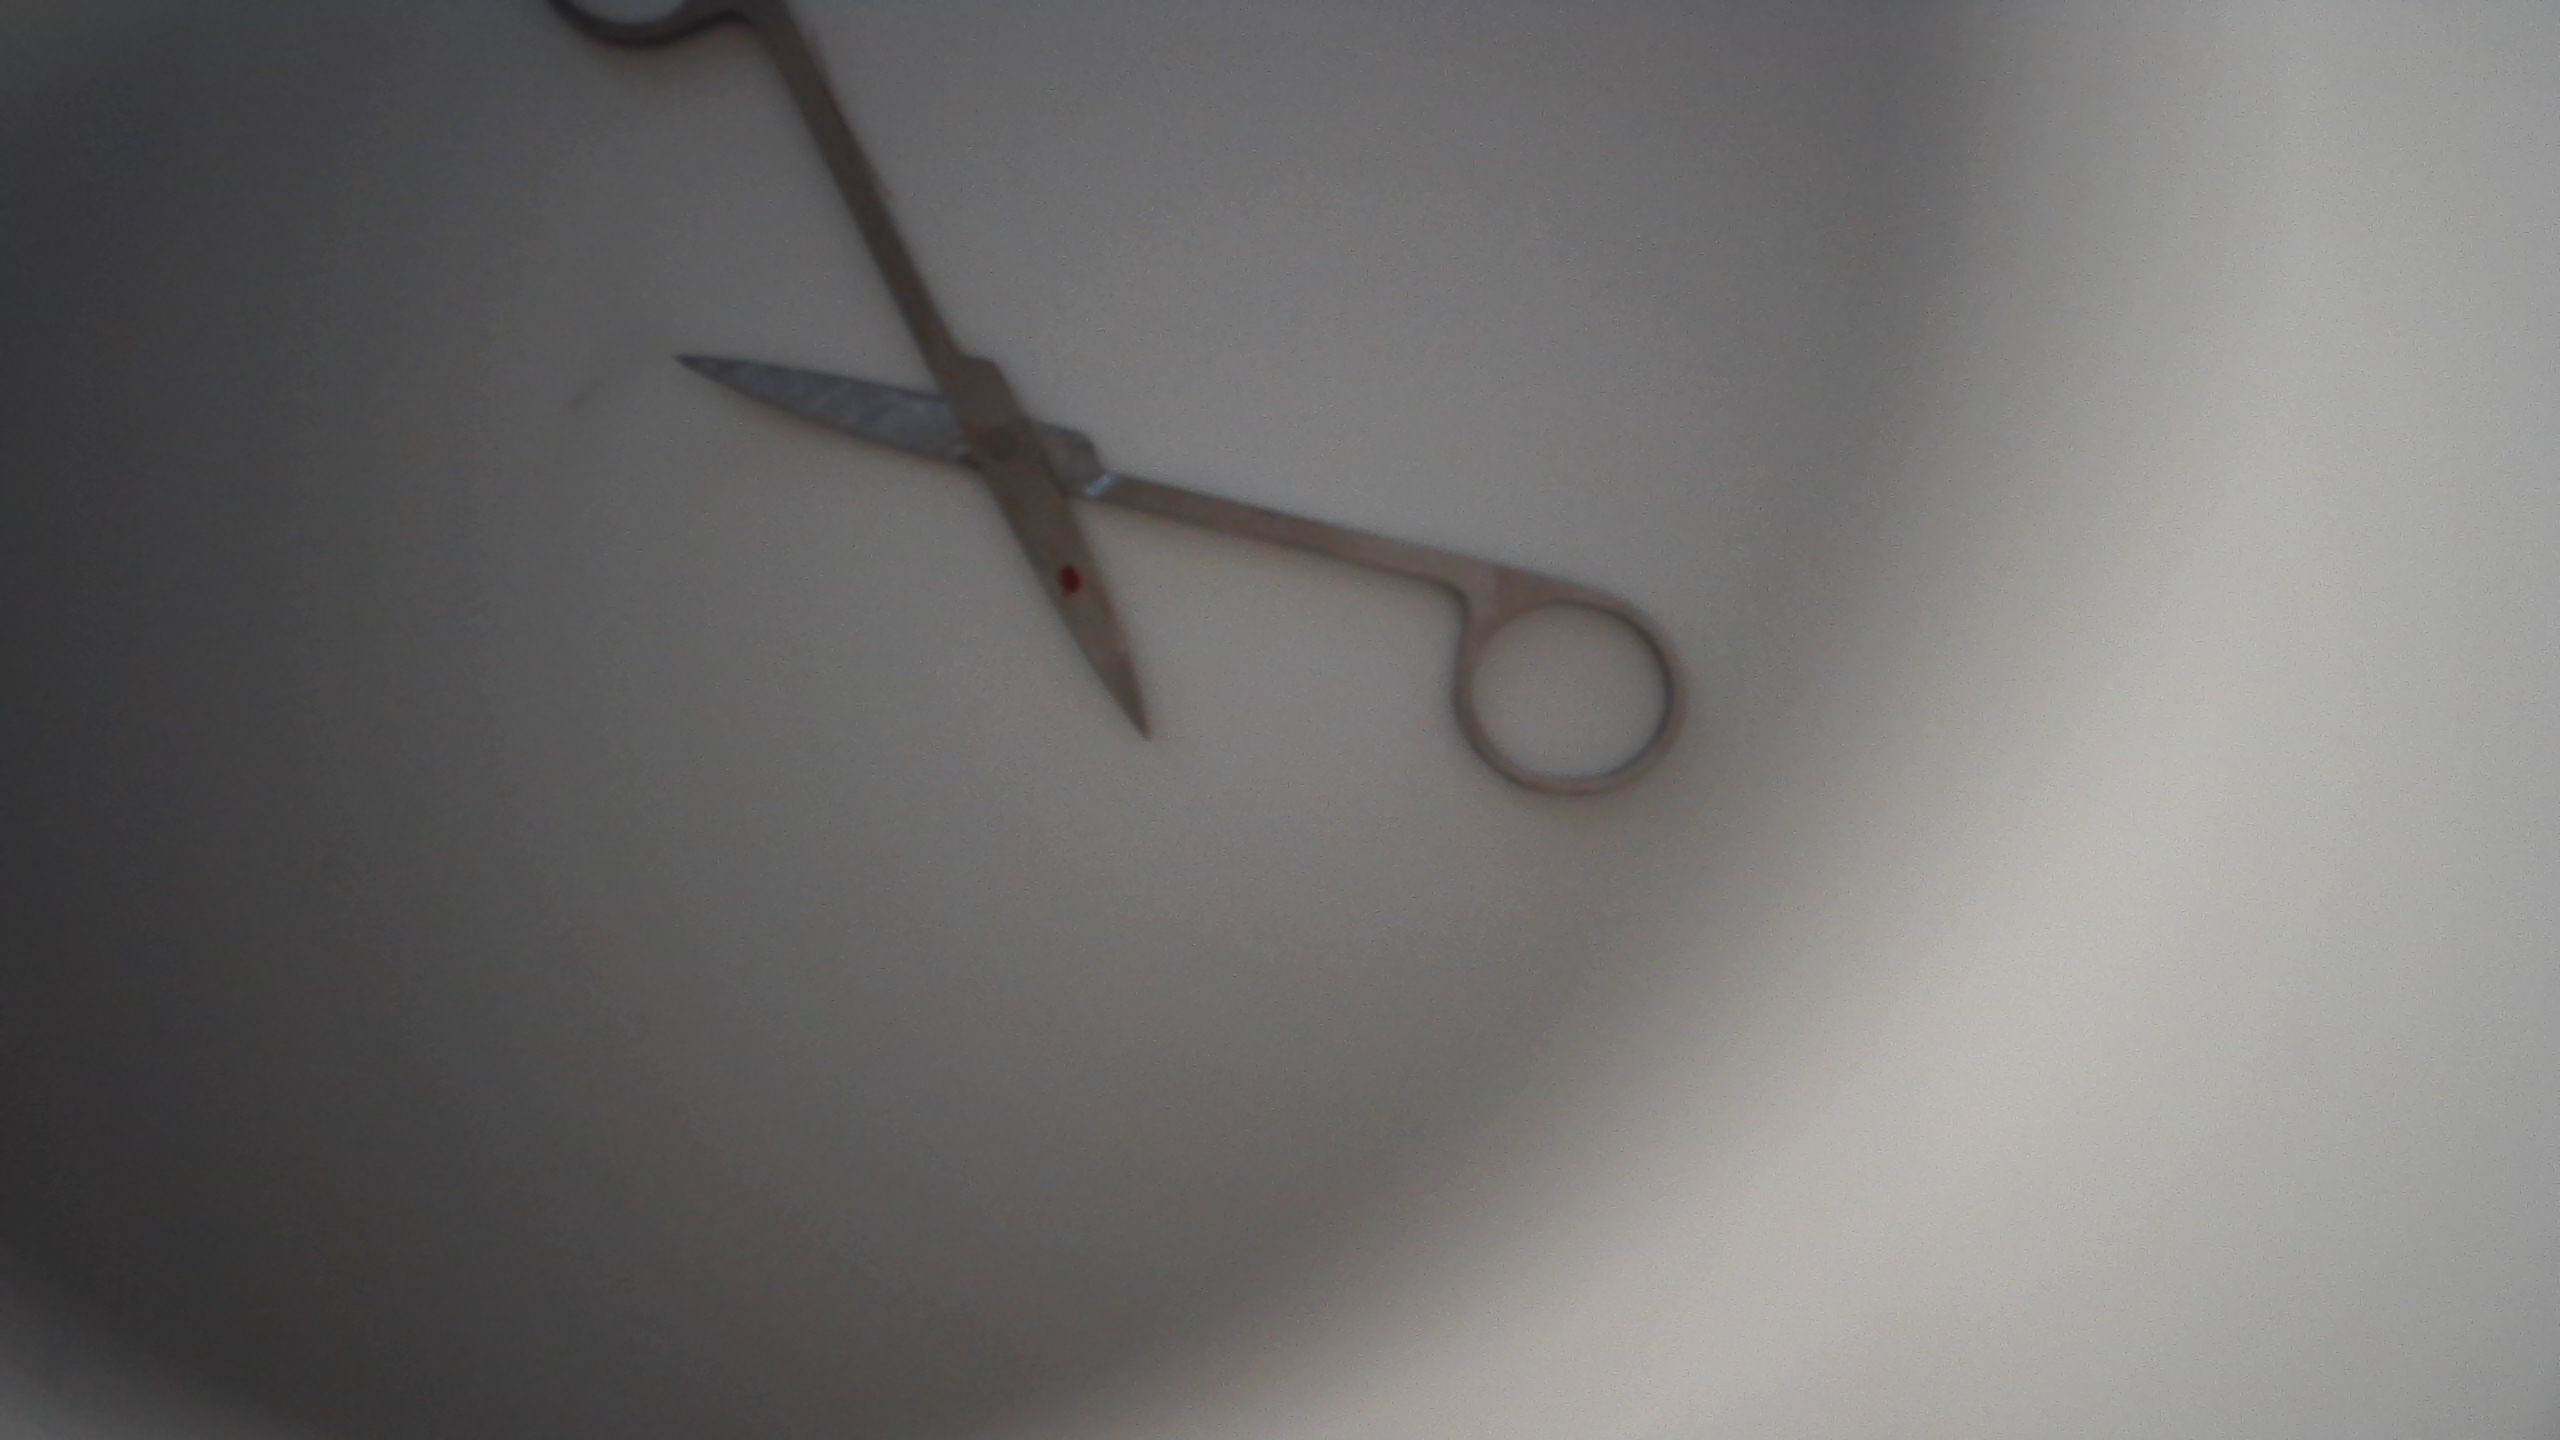Stain: (1058, 543, 1090, 598)
